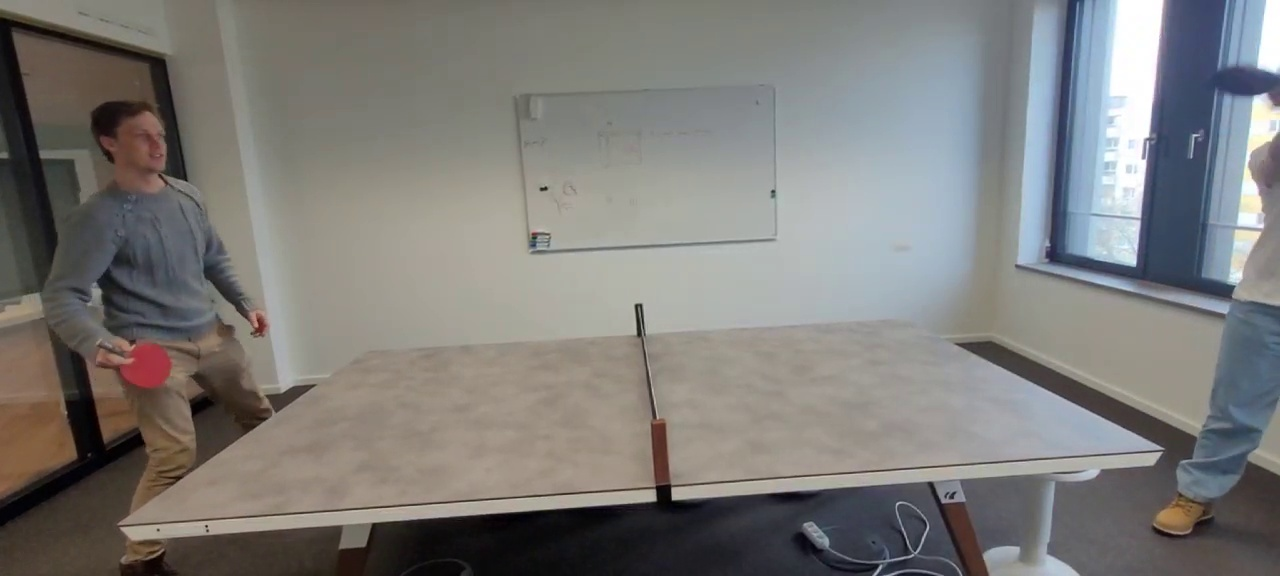1: (95, 338, 171, 389), (1209, 65, 1279, 95)
2: (892, 238, 912, 251)
ttplatte: (119, 319, 1163, 525)
